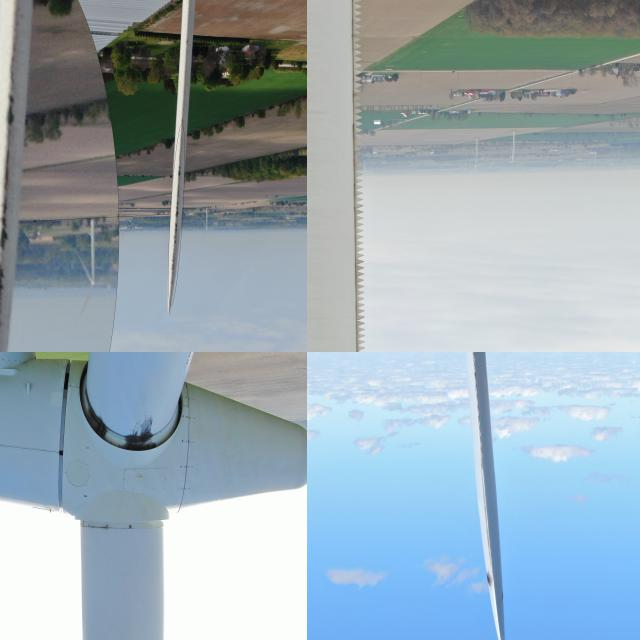damage: (168, 154, 184, 294), (75, 393, 111, 453), (122, 412, 158, 458), (484, 568, 494, 590)
